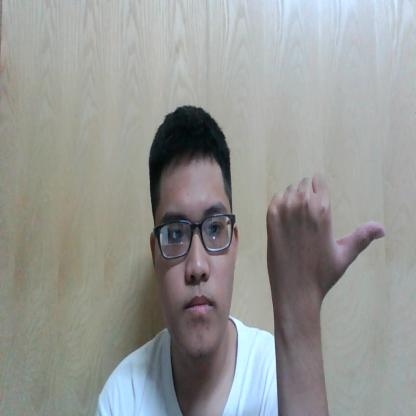left: (264, 170, 388, 305)
